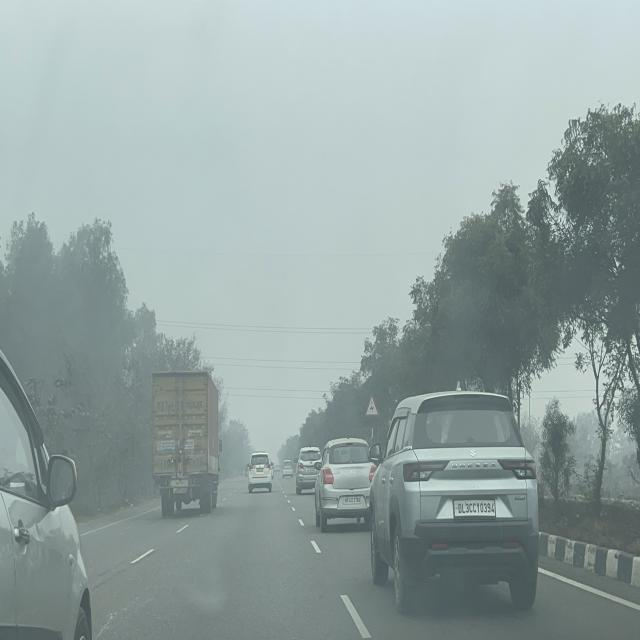WARNING: (365, 393, 379, 418)
